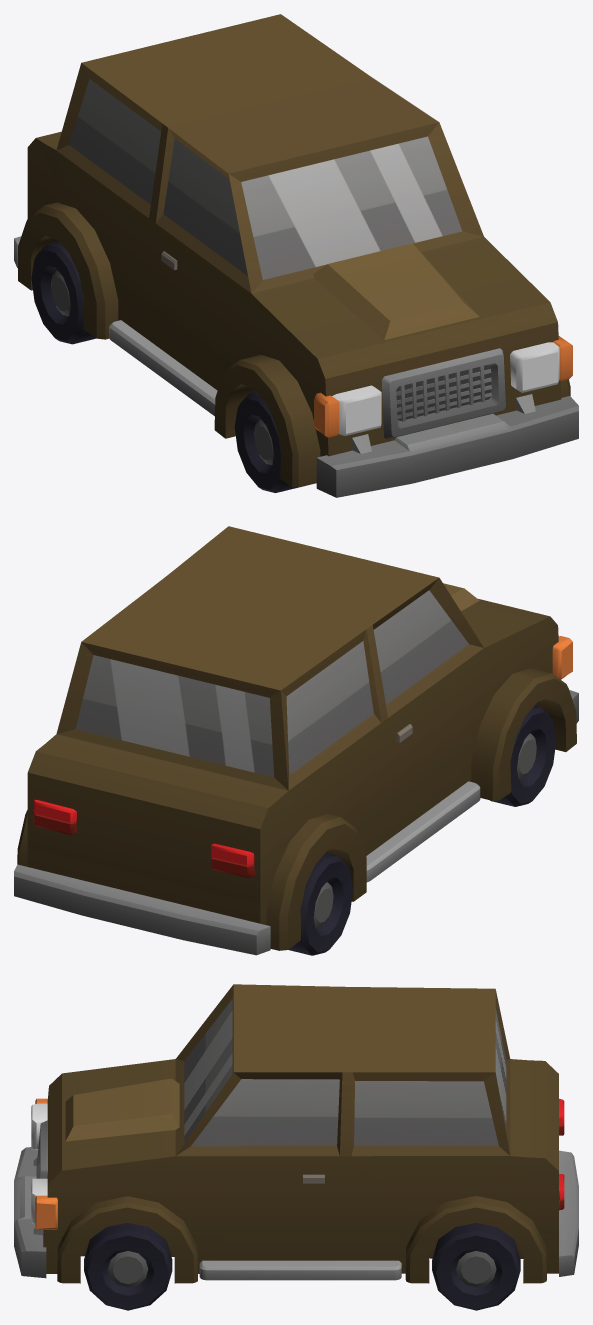
Rendered from Car_3_6.fbx.
3 renders of one model, top to bottom at view 1: azimuth 30°, elevation 25°; view 2: azimuth 150°, elevation 25°; view 3: azimuth 270°, elevation 25°, orthographic. The views are drawn at different scales.
Visible parts, largest first — view 1: Car_3_6, Wheel_Br, Wheel_Fr; view 2: Car_3_6, Wheel_Br, Wheel_Fr; view 3: Car_3_6, Wheel_Bl, Wheel_Fl.
Part boxes in pixels (bbox=[...]): Car_3_6: bbox=[14, 14, 578, 497]; Wheel_Br: bbox=[31, 241, 96, 344]; Wheel_Fr: bbox=[234, 391, 297, 492]; Car_3_6: bbox=[14, 526, 578, 955]; Wheel_Br: bbox=[288, 853, 353, 955]; Wheel_Fr: bbox=[490, 705, 556, 806]; Car_3_6: bbox=[14, 984, 578, 1283]; Wheel_Bl: bbox=[432, 1223, 520, 1310]; Wheel_Fl: bbox=[84, 1223, 172, 1310].
Size of the model in its own units: 113 by 102 by 230.
